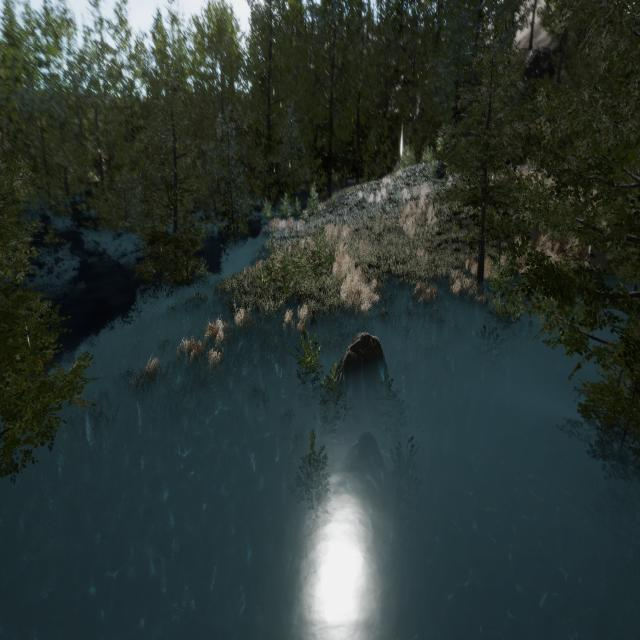Human: (307, 301, 323, 331)
